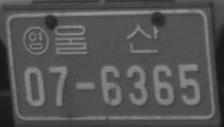-: (74, 79, 96, 93)
0: (22, 65, 46, 107)
3: (126, 63, 148, 107)
5: (177, 62, 201, 106)
6: (99, 64, 122, 107), (151, 63, 174, 106)
7: (47, 65, 69, 108)
영: (22, 25, 50, 56)
울산_D: (54, 24, 160, 56)
